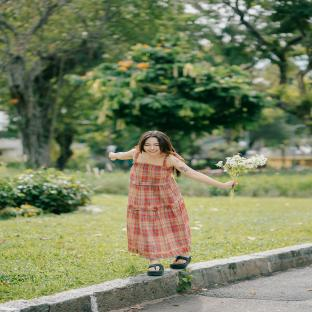Human: (109, 131, 237, 276)
